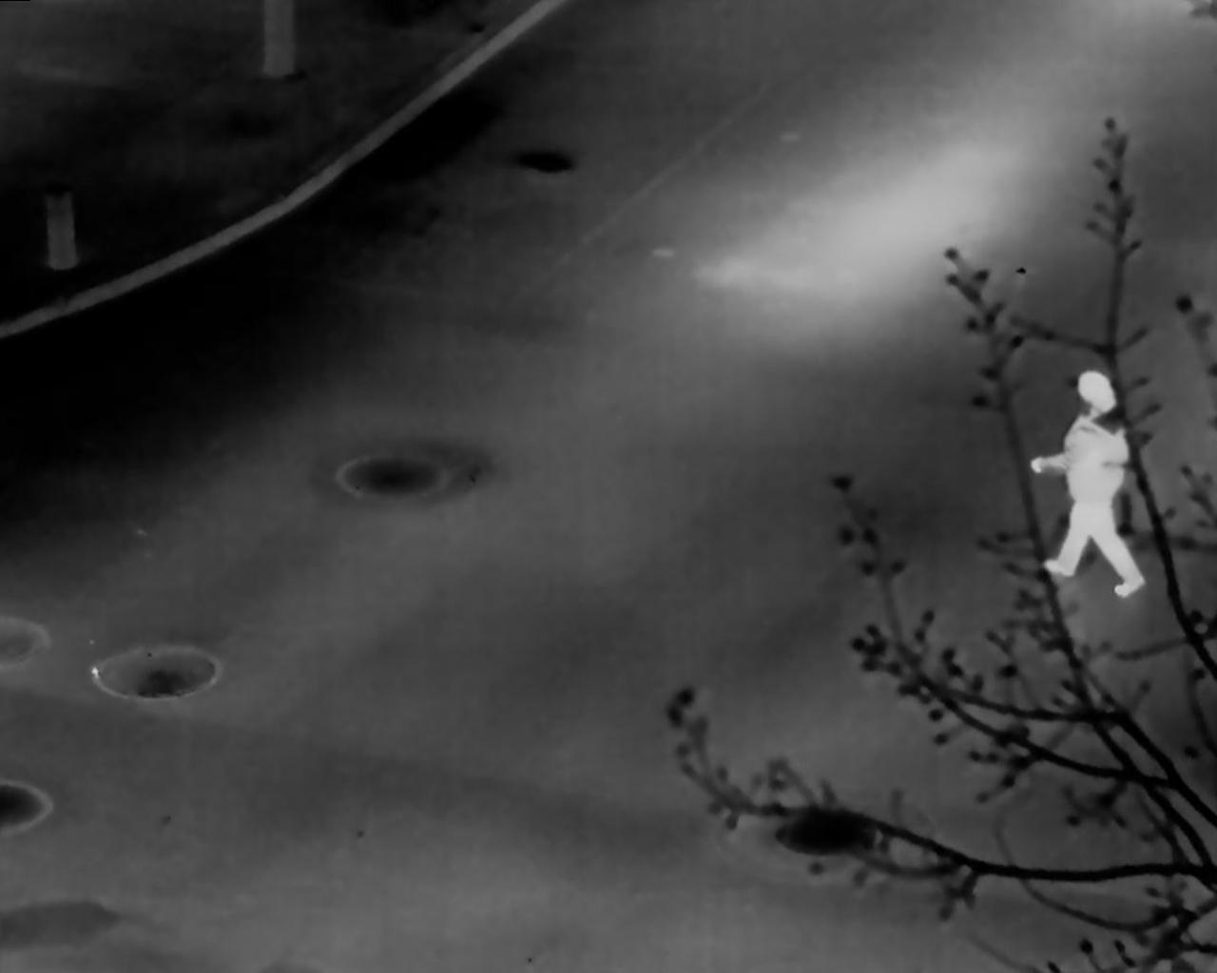person: (1029, 368, 1146, 596)
